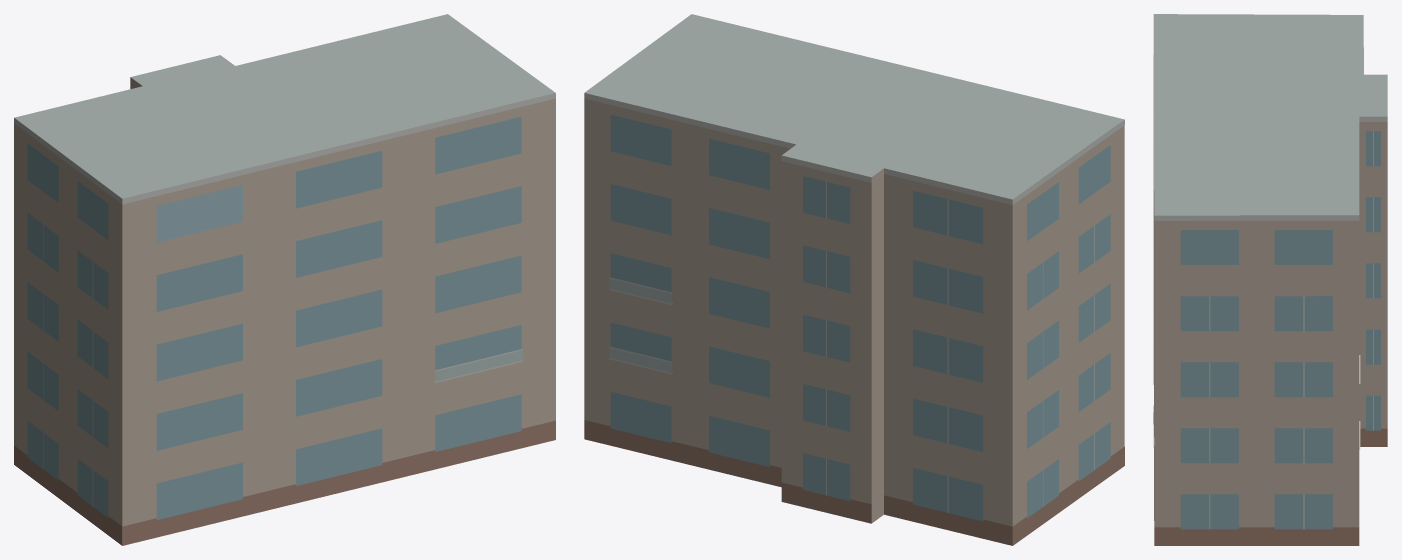
The model's file is survey-upis-32751916.glb.
The picture shows the model from 3 angles, left to right: view 1: azimuth 30°, elevation 25°; view 2: azimuth 150°, elevation 25°; view 3: azimuth 270°, elevation 25°; orthographic projection. The views are drawn at different scales.
Parts seen in each view (by area): view 1: survey-upis-32751916.tmp; view 2: survey-upis-32751916.tmp; view 3: survey-upis-32751916.tmp.
Part boxes in pixels (x1,y1,x2,y2): survey-upis-32751916.tmp: [14, 14, 555, 545]; survey-upis-32751916.tmp: [584, 14, 1124, 545]; survey-upis-32751916.tmp: [1153, 14, 1387, 545].
Size of the model in its own units: 19.76 by 15.1 by 9.72.
